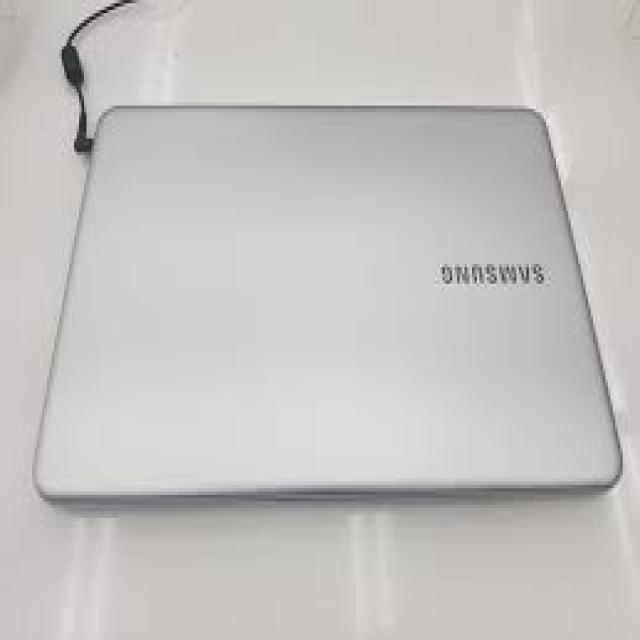laptop: (32, 103, 623, 502)
